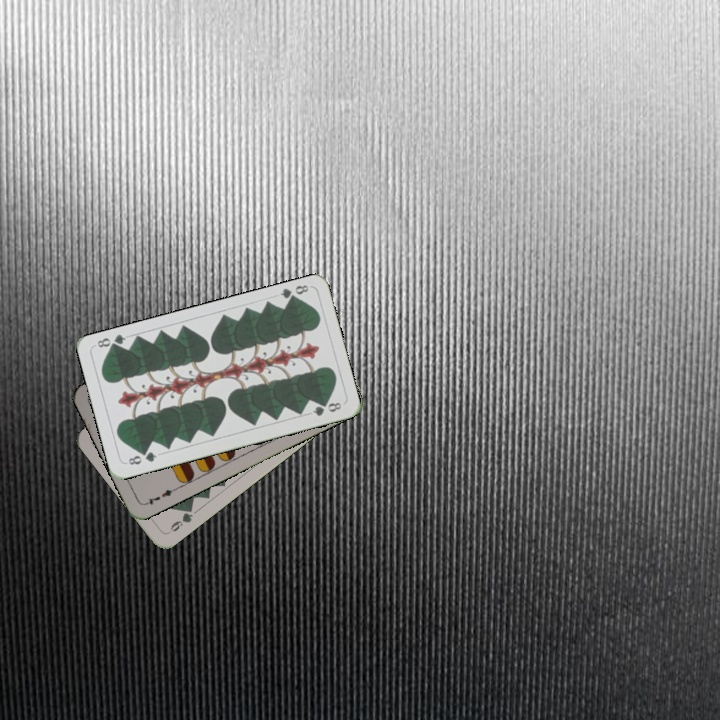E7: (141, 484, 179, 508)
G8: (276, 280, 311, 305), (124, 448, 159, 468)
G9: (164, 503, 195, 536)
